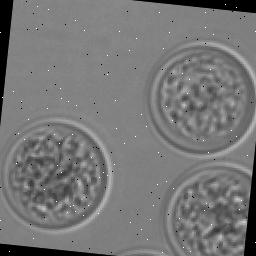picoshell: (1, 119, 112, 234), (148, 42, 256, 159), (165, 161, 252, 256), (117, 249, 170, 256)
